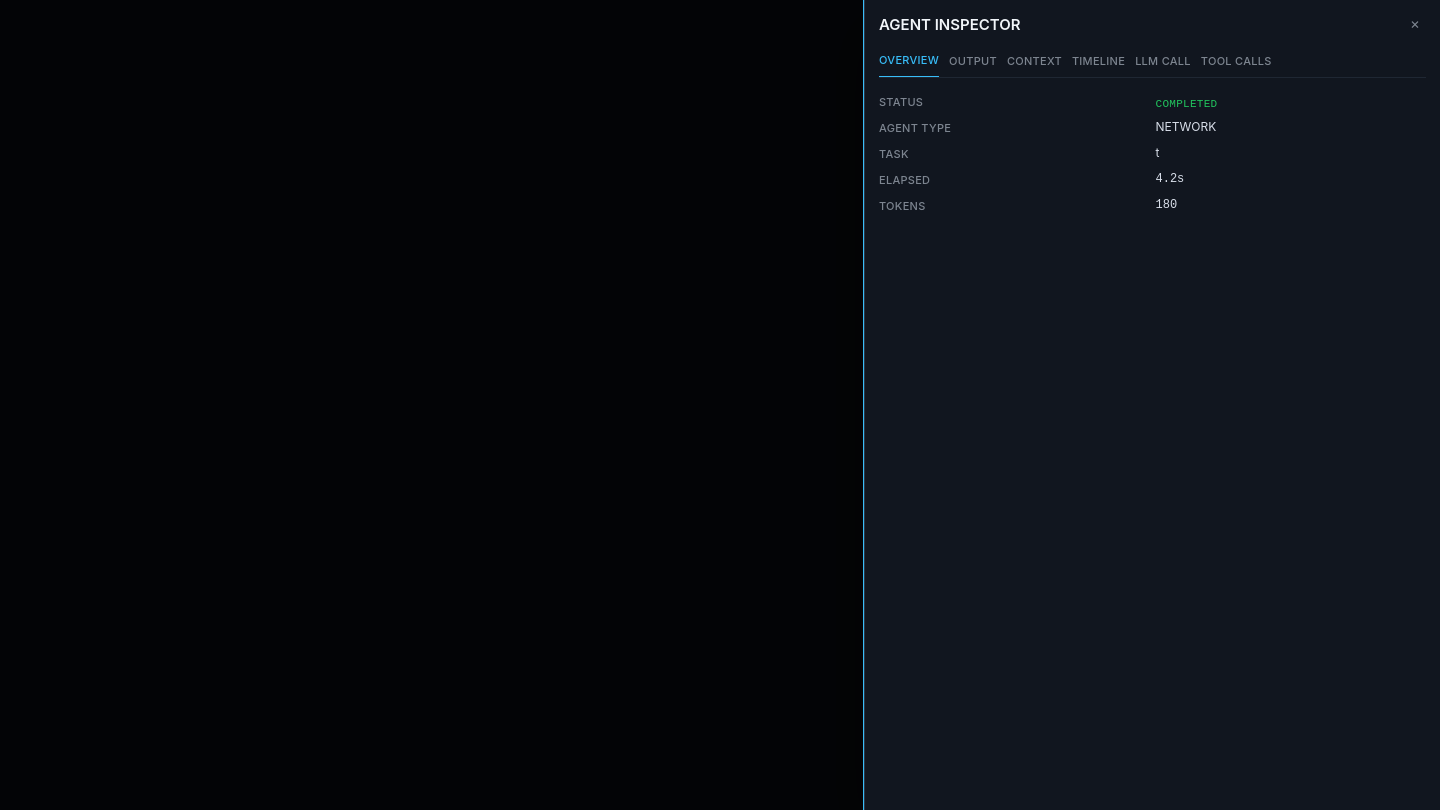
AgentInspector OUTPUT tab › shows the agent's structured recommendation
The width and height of the screenshot is (1440, 810).
Expected: the element with test id "overview-tab" is shown, [879,95,1217,213]
Step 1. Click the button "OUTPUT" → click(973, 64), box [949,50,997,77]
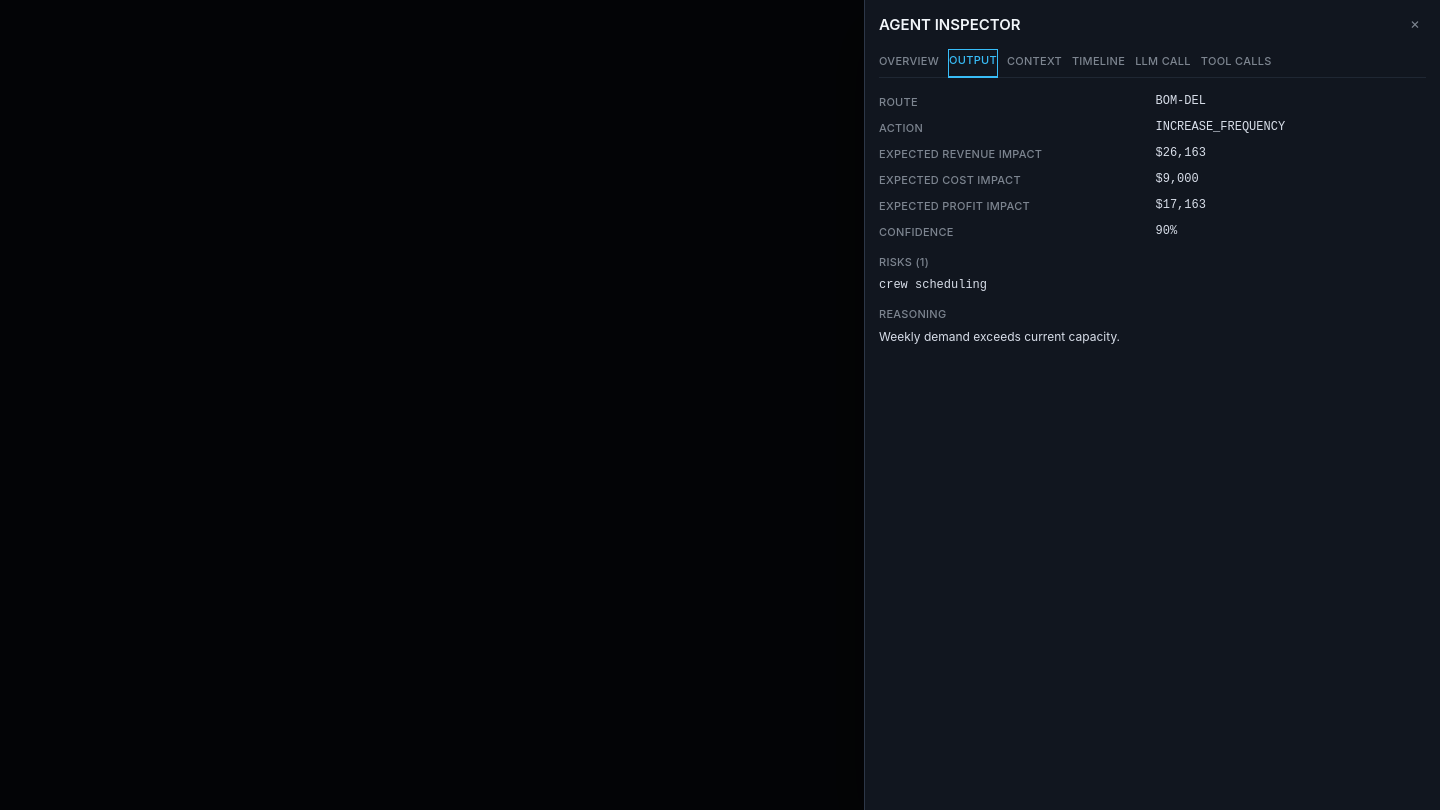
Expected: the element with test id "recommendation-view" is shown, [879,94,1285,344]
Expected: the text "INCREASE_FREQUENCY" is shown, [1156,120,1285,134]
Expected: the text "$17,163" is shown, [1156,198,1206,212]
